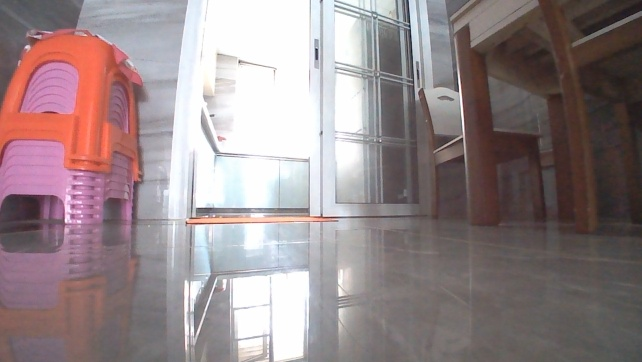blanket: (184, 213, 342, 227)
cupboard: (214, 148, 310, 213)
dining_table: (415, 0, 641, 234)
